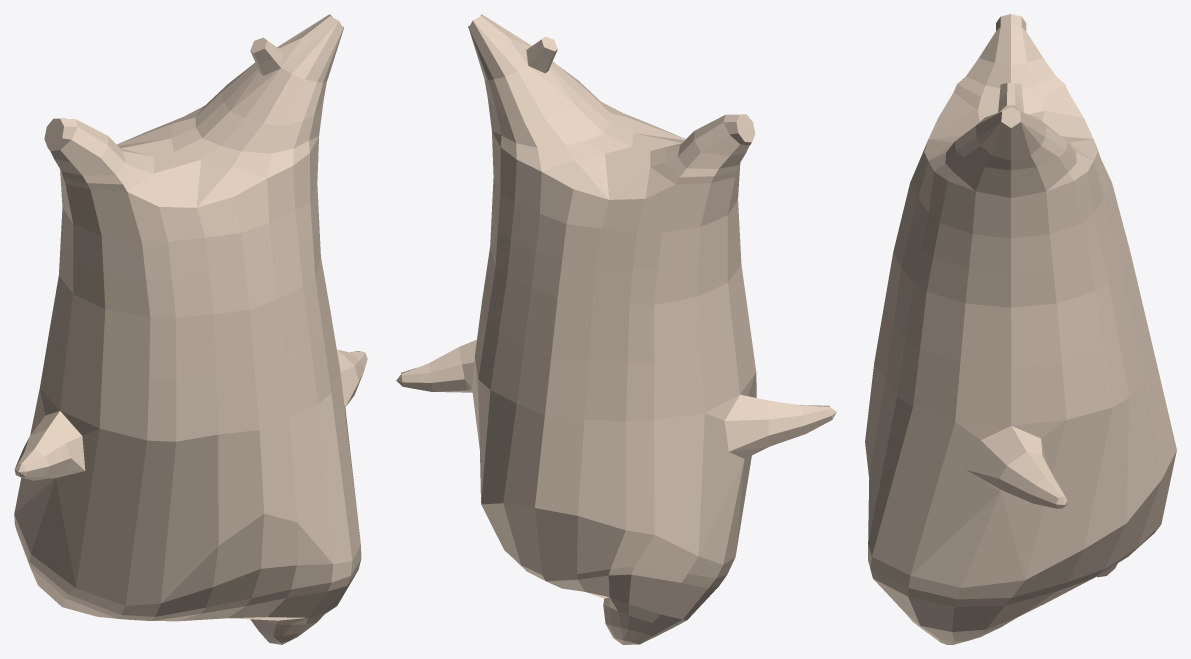
File: frame_0009.obj
3 renders of one model, left to right at view 1: azimuth 30°, elevation 25°; view 2: azimuth 150°, elevation 25°; view 3: azimuth 270°, elevation 25°, orthographic. The views are drawn at different scales.
Visible parts, largest first — view 1: korok; view 2: korok; view 3: korok.
Boxes of the visible parts, x1=… form: korok: x1=14, y1=14, x2=367, y2=644; korok: x1=396, y1=14, x2=836, y2=644; korok: x1=865, y1=14, x2=1176, y2=644.
Bounding box in the file's own units: 1.55 × 2.15 × 1.06.
